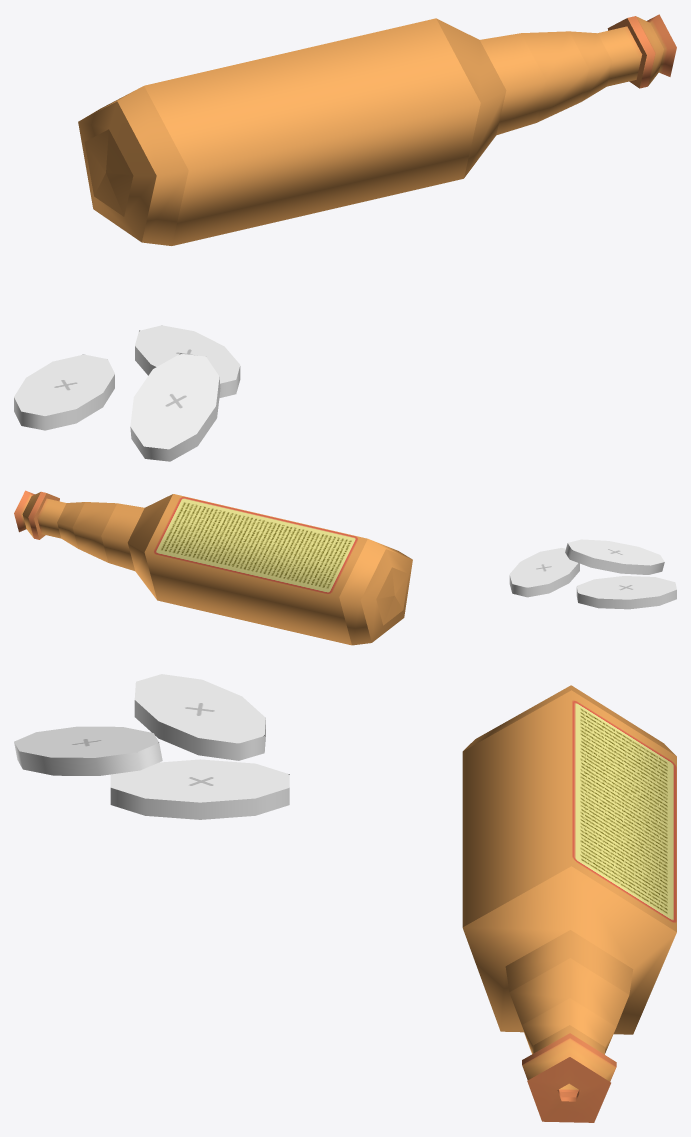
The model's file is GGZ_Anim.fbx.
3 renders of one model, top to bottom at view 1: azimuth 30°, elevation 25°; view 2: azimuth 150°, elevation 25°; view 3: azimuth 270°, elevation 25°, orthographic. The views are drawn at different scales.
Visible parts, largest first — view 1: Bottle, pill3, pill2, pill1; view 2: Bottle, pill2, pill3, pill1; view 3: Bottle, pill1, pill2, pill3.
Boxes of the visible parts, box(x1,y1,x2,y2) form: Bottle: box(78, 14, 676, 245); pill3: box(130, 353, 220, 461); pill2: box(14, 354, 114, 430); pill1: box(135, 325, 240, 398); Bottle: box(14, 490, 412, 645); pill2: box(576, 576, 676, 609); pill3: box(565, 539, 664, 574); pill1: box(509, 548, 579, 597); Bottle: box(462, 685, 676, 1122); pill1: box(110, 759, 289, 819); pill2: box(134, 674, 265, 760); pill3: box(14, 726, 162, 775).
Bounding box in the file's own units: 536 × 99.82 × 317.
Materials: 2 (2 with a texture image).
